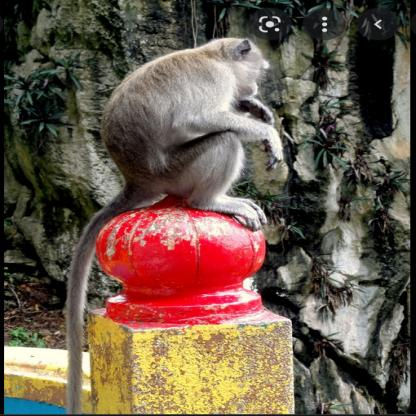monkey: (89, 37, 286, 231)
